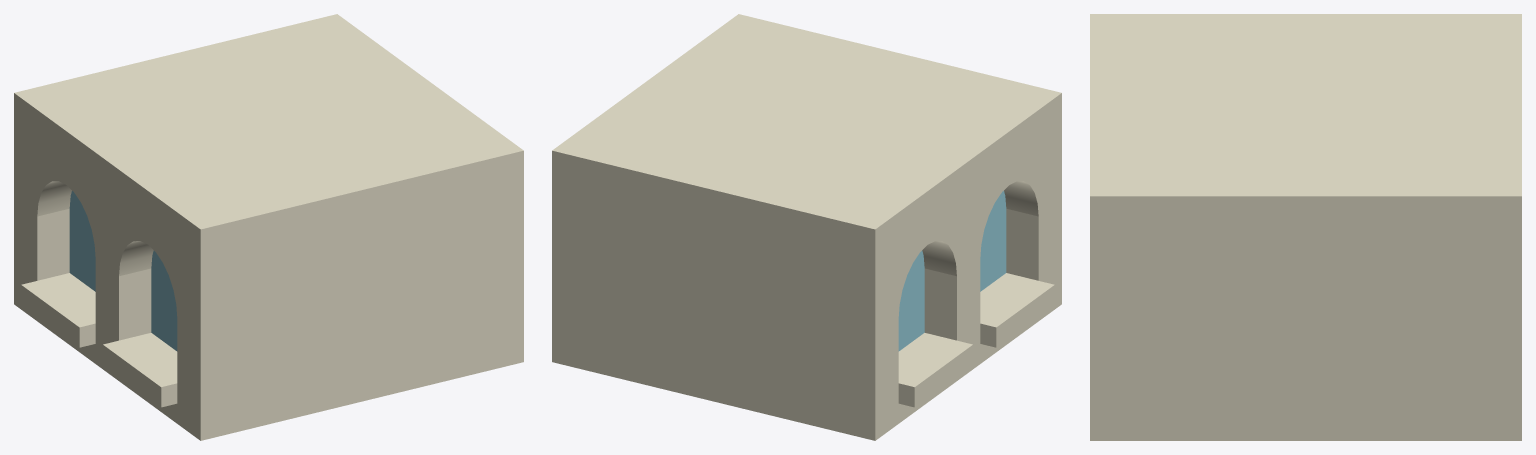
File: modularBuildings_030.fbx
3 views of the same model, side by side, from view 1: azimuth 30°, elevation 25°; view 2: azimuth 150°, elevation 25°; view 3: azimuth 270°, elevation 25° (orthographic). The views are drawn at different scales.
Parts seen in each view (by area): view 1: Mesh1_Group1 Model; view 2: Mesh1_Group1 Model; view 3: Mesh1_Group1 Model.
Boxes of the visible parts, x1,y1,x2,y2 form: Mesh1_Group1 Model: (14,14,523,440); Mesh1_Group1 Model: (552,14,1061,440); Mesh1_Group1 Model: (1090,14,1521,440).
Bounding box in the file's own units: 1.05 × 0.625 × 1.
